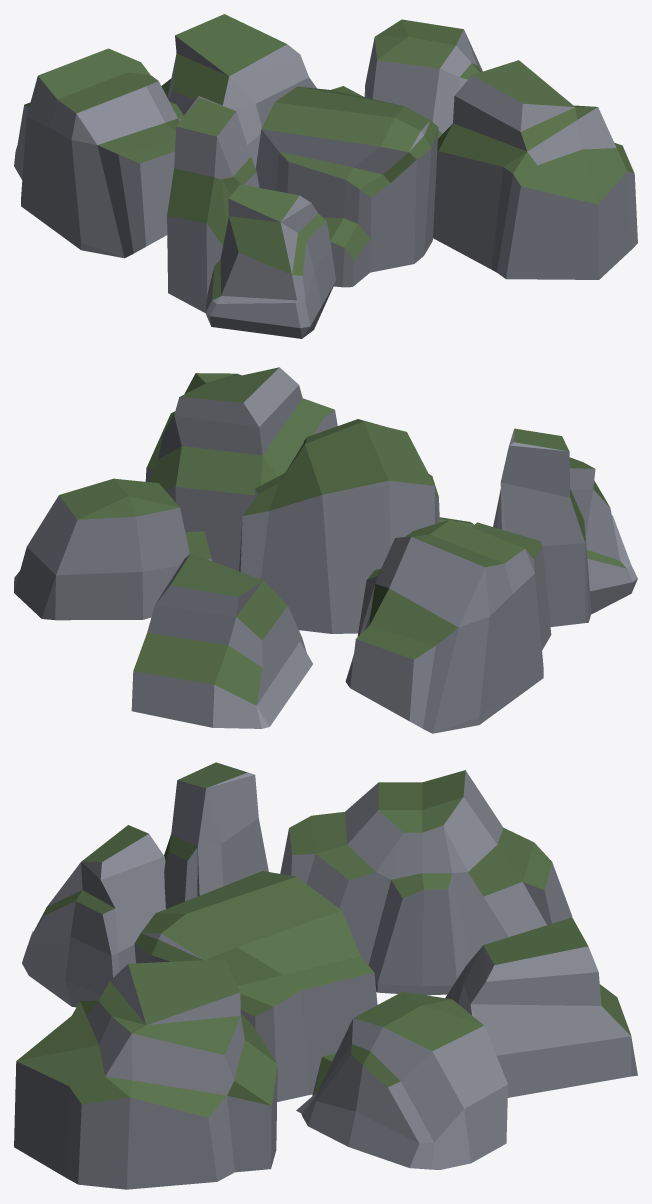
The model's file is rocks_moss.glb.
The picture shows the model from 3 angles, top to bottom: view 1: azimuth 30°, elevation 25°; view 2: azimuth 150°, elevation 25°; view 3: azimuth 270°, elevation 25°; orthographic projection. The views are drawn at different scales.
Visible parts, largest first — view 1: Rock_Moss_7, Rock_Moss_4, Rock_Moss_6.003, Rock_Moss_2, Rock_Moss_1, Rock_Moss_3, Rock_Moss_5; view 2: Rock_Moss_4, Rock_Moss_6.003, Rock_Moss_3, Rock_Moss_7, Rock_Moss_5, Rock_Moss_1, Rock_Moss_2; view 3: Rock_Moss_7, Rock_Moss_4, Rock_Moss_6.003, Rock_Moss_5, Rock_Moss_3, Rock_Moss_2, Rock_Moss_1.
Part boxes in pixels (bbox=[...]): Rock_Moss_7: bbox=[433, 60, 637, 279]; Rock_Moss_4: bbox=[14, 48, 183, 258]; Rock_Moss_6.003: bbox=[255, 86, 438, 287]; Rock_Moss_2: bbox=[205, 184, 335, 338]; Rock_Moss_1: bbox=[167, 96, 259, 312]; Rock_Moss_3: bbox=[161, 14, 316, 168]; Rock_Moss_5: bbox=[364, 19, 482, 138]; Rock_Moss_4: bbox=[345, 519, 551, 733]; Rock_Moss_6.003: bbox=[239, 419, 473, 633]; Rock_Moss_3: bbox=[131, 553, 312, 728]; Rock_Moss_7: bbox=[145, 367, 337, 571]; Rock_Moss_5: bbox=[14, 478, 212, 620]; Rock_Moss_1: bbox=[493, 428, 591, 626]; Rock_Moss_2: bbox=[569, 457, 637, 614]; Rock_Moss_7: bbox=[14, 959, 277, 1189]; Rock_Moss_4: bbox=[280, 770, 572, 995]; Rock_Moss_6.003: bbox=[134, 871, 377, 1101]; Rock_Moss_5: bbox=[296, 991, 507, 1169]; Rock_Moss_3: bbox=[445, 917, 637, 1097]; Rock_Moss_2: bbox=[22, 825, 165, 1007]; Rock_Moss_1: bbox=[164, 762, 268, 908].
Size of the model in its own units: 2.53 by 0.9801 by 2.6.
